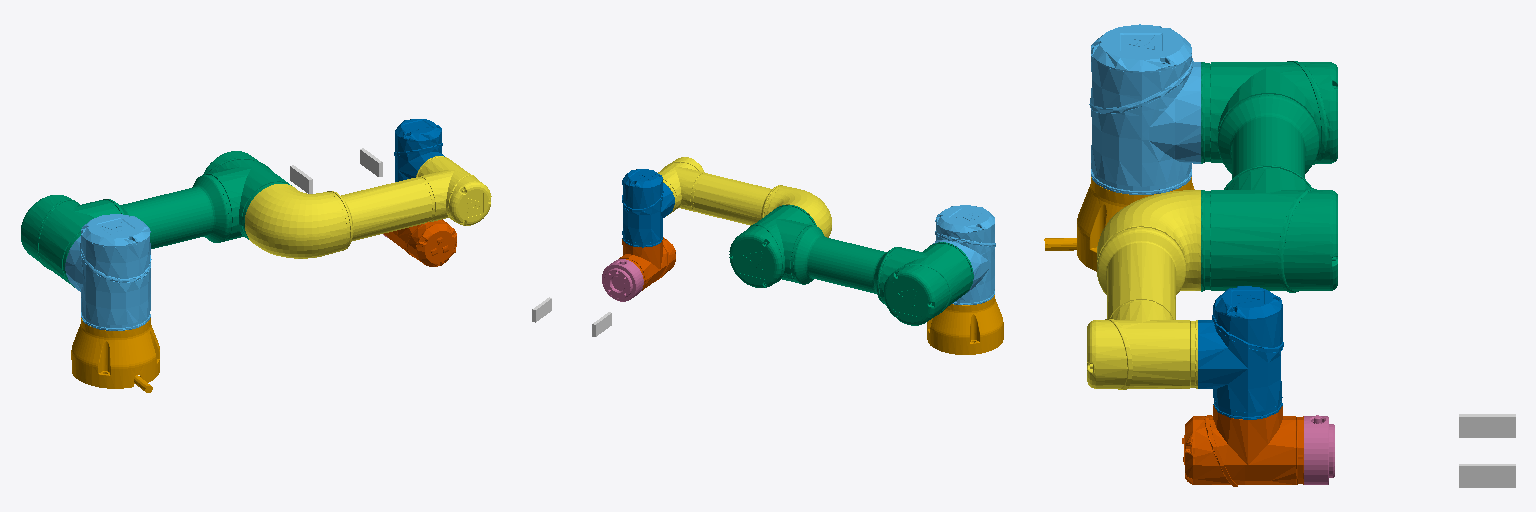
URDF robot description (GBT_C7A):
<?xml version="1.0"?>
<robot name="GBT_C7A" xmlns:xacro="http://www.ros.org/wiki/xacro">

  <!-- Base Link: ARM1 -->
  <link name="ARM1">
  <inertial>
      <origin
        xyz="-5.26704954492915E-06 -0.0098126576895962 0.0491108287185979"
        rpy="0 0 0" />
      <mass
        value="9.16040326523465" />
      <inertia
        ixx="0.0419458054611511"
        ixy="1.03351238796275E-05"
        ixz="-1.16385212137257E-06"
        iyy="0.0160795355795088"
        iyz="-0.00415210835016869"
        izz="0.0465550656362786" />
    </inertial>
    <visual>
      <origin xyz="0 0 0" rpy="0 0 0"/>
      <geometry>
        <mesh filename="package://gbt_gripper_description/meshes/visual/ARM1.obj" scale="0.001 0.001 0.001"/>
      </geometry>
    </visual>
    <collision>
      <origin xyz="0 0 0" rpy="0 0 0"/>
      <geometry>
        <mesh filename="package://gbt_gripper_description/meshes/collision/ARM1.stl" scale="0.001 0.001 0.001"/>
      </geometry>
    </collision>
  </link>

  <!-- ARM2 -->
  <joint name="joint_1_2" type="revolute">
    <parent link="ARM1"/>
    <child link="ARM2"/>
    <origin xyz="0 0 0.178" rpy="0 0 0"/>
    <axis xyz="0 0 1"/>
    <limit effort="100" lower="-6.283185307179" upper="6.283185307179" velocity="6.28"/>
  </joint>
  <link name="ARM2">
    <inertial>
      <origin
        xyz="-2.2231E-07 0.0039863 0.082573"
        rpy="0 0 0" />
      <mass
        value="15.175" />
      <inertia
        ixx="0.047239"
        ixy="-1.1092E-08"
        ixz="6.1658E-07"
        iyy="0.045942"
        iyz="-0.00010066"
        izz="0.029088" />
    </inertial>
    <visual>
      <origin xyz="0 0 0" rpy="0 0 0"/>
      <geometry>
        <mesh filename="package://gbt_gripper_description/meshes/visual/ARM2.obj" scale="0.001 0.001 0.001"/>
      </geometry>
    </visual>
    <collision>
      <origin xyz="0 0 0" rpy="0 0 0"/>
      <geometry>
        <mesh filename="package://gbt_gripper_description/meshes/collision/ARM2.stl" scale="0.001 0.001 0.001"/>
      </geometry>
    </collision>
  </link>

  <!-- ARM3 -->
  <joint name="joint_2_3" type="revolute">
    <parent link="ARM2"/>
    <child link="ARM3"/>
    <origin xyz="0 0.147 0" rpy="1.5707963267948966 0 0"/>
    <axis xyz="0 0 1"/>
    <limit effort="100" lower="-1.483529864195" upper="4.625122517784" velocity="6.28"/>
  </joint>
  <link name="ARM3">
    <inertial>
      <origin
        xyz="0.175 -2.4749E-07 0.082978"
        rpy="0 0 0" />
      <mass
        value="42.406" />
      <inertia
        ixx="0.10612"
        ixy="2.7254E-06"
        ixz="1.9039E-06"
        iyy="1.0509"
        iyz="8.5915E-07"
        izz="1.0146" />
    </inertial>
    <visual>
      <origin xyz="0 0 0" rpy="0 0 0"/>
      <geometry>
        <mesh filename="package://gbt_gripper_description/meshes/visual/ARM3.obj" scale="0.001 0.001 0.001"/>
      </geometry>
    </visual>
    <collision>
      <origin xyz="0 0 0" rpy="0 0 0"/>
      <geometry>
        <mesh filename="package://gbt_gripper_description/meshes/collision/ARM3.stl" scale="0.001 0.001 0.001"/>
      </geometry>
    </collision>
  </link>

  <!-- ARM4 -->
  <joint name="joint_3_4" type="revolute">
    <parent link="ARM3"/>
    <child link="ARM4"/>
    <origin xyz="0.350 0 0.147" rpy="0 0 0"/>
    <axis xyz="0 0 1"/>
    <limit effort="100" lower="-2.879793265790" upper="2.879793265790" velocity="6.28"/>
  </joint>
  <link name="ARM4">
    <inertial>
      <origin
        xyz="-0.14241 6.1389E-07 0.056555"
        rpy="0 0 0" />
      <mass
        value="22.494" />
      <inertia
        ixx="0.03219"
        ixy="-6.2382E-08"
        ixz="0.014535"
        iyy="0.36351"
        iyz="6.3874E-08"
        izz="0.35645" />
    </inertial>
    <visual>
      <origin xyz="0 0 0" rpy="0 0 0"/>
      <geometry>
        <mesh filename="package://gbt_gripper_description/meshes/visual/ARM4.obj" scale="0.001 0.001 0.001"/>
      </geometry>
    </visual>
    <collision>
      <origin xyz="0 0 0" rpy="0 0 0"/>
      <geometry>
        <mesh filename="package://gbt_gripper_description/meshes/collision/ARM4.stl" scale="0.001 0.001 0.001"/>
      </geometry>
    </collision>
  </link>

  <!-- ARM5 -->
  <joint name="joint_4_5" type="revolute">
    <parent link="ARM4"/>
    <child link="ARM5"/>
    <origin xyz="0.3117 0 -0.1233" rpy="0 0 0"/>
    <axis xyz="0 0 1"/>
    <limit effort="100" lower="-1.483529864195" upper="4.625122517784" velocity="6.28"/>
  </joint>
  <link name="ARM5">
    <inertial>
      <origin
        xyz="1.2977E-07 0.0036933 0.046819"
        rpy="0 0 0" />
      <mass
        value="5.9624" />
      <inertia
        ixx="0.01117"
        ixy="8.492E-08"
        ixz="1.0592E-08"
        iyy="0.0057359"
        iyz="-0.00011927"
        izz="0.010395" />
    </inertial>
    <visual>
      <origin xyz="0 0 0" rpy="0 0 0"/>
      <geometry>
        <mesh filename="package://gbt_gripper_description/meshes/visual/ARM5.obj" scale="0.001 0.001 0.001"/>
      </geometry>
    </visual>
    <collision>
      <origin xyz="0 0 0" rpy="0 0 0"/>
      <geometry>
        <mesh filename="package://gbt_gripper_description/meshes/collision/ARM5.stl" scale="0.001 0.001 0.001"/>
      </geometry>
    </collision>
  </link>

  <!-- ARM6 -->
  <joint name="joint_5_6" type="revolute">
    <parent link="ARM5"/>
    <child link="ARM6"/>
    <origin xyz="0 -0.1233 0" rpy="1.5707963267948966 0 0"/>
    <axis xyz="0 0 1"/>
    <limit effort="100" lower="-6.283185307179" upper="6.283185307179" velocity="6.28"/>
  </joint>
  <link name="ARM6">
    <inertial>
      <origin
        xyz="1.3304E-07 -0.00083634 -0.04715"
        rpy="0 0 0" />
      <mass
        value="6.3691" />
      <inertia
        ixx="0.013244"
        ixy="1.0431E-07"
        ixz="3.2379E-08"
        iyy="0.0060649"
        iyz="-1.9476E-05"
        izz="0.012458" />
    </inertial>
    <visual>
      <origin xyz="0 0 0" rpy="0 0 0"/>
      <geometry>
        <mesh filename="package://gbt_gripper_description/meshes/visual/ARM6.obj" scale="0.001 0.001 0.001"/>
      </geometry>
    </visual>
    <collision>
      <origin xyz="0 0 0" rpy="0 0 0"/>
      <geometry>
        <mesh filename="package://gbt_gripper_description/meshes/collision/ARM6.stl" scale="0.001 0.001 0.001"/>
      </geometry>
    </collision>
  </link>

  <!-- ARM7 -->
  <joint name="joint_6_7" type="revolute">
    <parent link="ARM6"/>
    <child link="ARM7"/>
    <origin xyz="0 -0.1003 0" rpy="1.5707963267948966 0 0"/>
    <axis xyz="0 0 1"/>
    <limit effort="100" lower="-6.283185307179" upper="6.283185307179" velocity="6.28"/>
  </joint>
  <link name="ARM7">
    <inertial>
      <origin
        xyz="3.8813E-08 0.00017432 0.012497"
        rpy="0 0 0" />
      <mass
        value="1.0139" />
      <inertia
        ixx="0.00046196"
        ixy="1.8319E-11"
        ixz="-3.9805E-12"
        iyy="0.00046763"
        iyz="-6.4994E-08"
        izz="0.00080288" />
    </inertial>
    <visual>
      <origin xyz="0 0 0" rpy="0 0 0"/>
      <geometry>
        <mesh filename="package://gbt_gripper_description/meshes/visual/ARM7.obj" scale="0.001 0.001 0.001"/>
      </geometry>
    </visual>
    <collision>
      <origin xyz="0 0 0" rpy="0 0 0"/>
      <geometry>
        <mesh filename="package://gbt_gripper_description/meshes/collision/ARM7.stl" scale="0.001 0.001 0.001"/>
      </geometry>
    </collision>
  </link>

  <!-- gripper -->
  <link name="robotiq_arg2f_base_link">
    <inertial>
      <origin rpy="0 0 0" xyz="8.625E-08 -4.6583E-06 0.03145"/>
      <mass value="0.22652"/>
      <inertia ixx="0.00020005" ixy="-4.2442E-10" ixz="-2.9069E-10" iyy="0.00017832" iyz="-3.4402E-08" izz="0.00013478"/>
    </inertial>
    <visual>
      <origin rpy="0 0 0" xyz="0 0 0"/>
      <geometry>
        <mesh filename="package://gbt_gripper_description/meshes/visual/robotiq_arg2f_base_link.stl"/>
      </geometry>
      <material name="">
        <color rgba="0.1 0.1 0.1 1"/>
      </material>
    </visual>
    <collision>
      <origin rpy="0 0 0" xyz="0 0 0"/>
      <geometry>
        <mesh filename="package://gbt_gripper_description/meshes/collision/robotiq_arg2f_base_link.stl"/>
      </geometry>
    </collision>
  </link>
  <link name="left_outer_knuckle">
    <inertial>
      <origin rpy="0 0 0" xyz="-0.000200000000003065 0.0199435877845359 0.0292245259211331"/>
      <mass value="0.00853198276973456"/>
      <inertia ixx="2.89328108496468E-06" ixy="-1.57935047237397E-19" ixz="-1.93980378593255E-19" iyy="1.86719750325683E-06" iyz="-1.21858577871576E-06" izz="1.21905238907251E-06"/>
    </inertial>
    <visual>
      <origin rpy="0 0 0" xyz="0 0 0"/>
      <geometry>
        <mesh filename="package://gbt_gripper_description/meshes/visual/robotiq_arg2f_140_outer_knuckle.stl"/>
      </geometry>
      <material name="">
        <color rgba="0.792156862745098 0.819607843137255 0.933333333333333 1"/>
      </material>
    </visual>
    <collision>
      <origin rpy="0 0 0" xyz="0 0 0"/>
      <geometry>
        <mesh filename="package://gbt_gripper_description/meshes/collision/robotiq_arg2f_140_outer_knuckle.stl"/>
      </geometry>
    </collision>
  </link>
  <link name="left_outer_finger">
    <inertial>
      <origin rpy="0 0 0" xyz="0.00030115855001899 0.0373907951953854 -0.0208027427000385"/>
      <mass value="0.022614240507152"/>
      <inertia ixx="1.52518312458174E-05" ixy="9.76583423954399E-10" ixz="-5.43838577022588E-10" iyy="6.17694243867776E-06" iyz="6.78636130740228E-06" izz="1.16494917907219E-05"/>
    </inertial>
    <visual>
      <origin rpy="0 0 0" xyz="0 0 0"/>
      <geometry>
        <mesh filename="package://gbt_gripper_description/meshes/visual/robotiq_arg2f_140_outer_finger.stl"/>
      </geometry>
      <material name="">
        <color rgba="0.1 0.1 0.1 1"/>
      </material>
    </visual>
    <collision>
      <origin rpy="0 0 0" xyz="0 0 0"/>
      <geometry>
        <mesh filename="package://gbt_gripper_description/meshes/collision/robotiq_arg2f_140_outer_finger.stl"/>
      </geometry>
    </collision>
  </link>
  <link name="left_inner_finger">
    <inertial>
      <origin rpy="0 0 0" xyz="0.000299999999999317 0.0160078233491243 -0.0136945669206257"/>
      <mass value="0.0104003125914103"/>
      <inertia ixx="2.71909453810972E-06" ixy="1.35402465472579E-21" ixz="-7.1817349065269E-22" iyy="7.69100314106116E-07" iyz="6.74715432769696E-07" izz="2.30315190420171E-06"/>
    </inertial>
    <visual>
      <origin rpy="0 0 0" xyz="0 0 0"/>
      <geometry>
        <mesh filename="package://gbt_gripper_description/meshes/visual/robotiq_arg2f_140_inner_finger.stl"/>
      </geometry>
      <material name="">
        <color rgba="0.1 0.1 0.1 1"/>
      </material>
    </visual>
    <collision>
      <origin rpy="0 0 0" xyz="0 0 0"/>
      <geometry>
        <mesh filename="package://gbt_gripper_description/meshes/collision/robotiq_arg2f_140_inner_finger.stl"/>
      </geometry>
    </collision>
  </link>
  <link name="left_inner_finger_pad">
    <visual>
      <origin rpy="0 0 0" xyz="0 0 0"/>
      <geometry>
        <box size="0.027 0.065 0.0075"/>
      </geometry>
      <material name="">
        <color rgba="0.9 0.9 0.9 1"/>
      </material>
    </visual>
    <collision>
      <origin rpy="0 0 0" xyz="0 0 0"/>
      <geometry>
        <box size="0.03 0.07 0.0075"/>
      </geometry>
      <material name="">
        <color rgba="0.9 0.0 0.0 1"/>
      </material>
    </collision>
  </link>
  <link name="left_inner_knuckle">
    <inertial>
      <origin rpy="0 0 0" xyz="0.000123011831763771 0.0507850843201817 0.00103968640075166"/>
      <mass value="0.0271177346495152"/>
      <inertia ixx="2.61910379223783E-05" ixy="-2.43616858946494E-07" ixz="-6.37789906117123E-09" iyy="2.8270243746167E-06" iyz="-5.37200748039765E-07" izz="2.83695868220296E-05"/>
    </inertial>
    <visual>
      <origin rpy="0 0 0" xyz="0 0 0"/>
      <geometry>
        <mesh filename="package://gbt_gripper_description/meshes/visual/robotiq_arg2f_140_inner_knuckle.stl"/>
      </geometry>
      <material name="">
        <color rgba="0.1 0.1 0.1 1"/>
      </material>
    </visual>
    <collision>
      <origin rpy="0 0 0" xyz="0 0 0"/>
      <geometry>
        <mesh filename="package://gbt_gripper_description/meshes/collision/robotiq_arg2f_140_inner_knuckle.stl"/>
      </geometry>
    </collision>
  </link>
  <link name="right_outer_knuckle">
    <inertial>
      <origin rpy="0 0 0" xyz="-0.000200000000003065 0.0199435877845359 0.0292245259211331"/>
      <mass value="0.00853198276973456"/>
      <inertia ixx="2.89328108496468E-06" ixy="-1.57935047237397E-19" ixz="-1.93980378593255E-19" iyy="1.86719750325683E-06" iyz="-1.21858577871576E-06" izz="1.21905238907251E-06"/>
    </inertial>
    <visual>
      <origin rpy="0 0 0" xyz="0 0 0"/>
      <geometry>
        <mesh filename="package://gbt_gripper_description/meshes/visual/robotiq_arg2f_140_outer_knuckle.stl"/>
      </geometry>
      <material name="">
        <color rgba="0.792156862745098 0.819607843137255 0.933333333333333 1"/>
      </material>
    </visual>
    <collision>
      <origin rpy="0 0 0" xyz="0 0 0"/>
      <geometry>
        <mesh filename="package://gbt_gripper_description/meshes/collision/robotiq_arg2f_140_outer_knuckle.stl"/>
      </geometry>
    </collision>
  </link>
  <link name="right_outer_finger">
    <inertial>
      <origin rpy="0 0 0" xyz="0.00030115855001899 0.0373907951953854 -0.0208027427000385"/>
      <mass value="0.022614240507152"/>
      <inertia ixx="1.52518312458174E-05" ixy="9.76583423954399E-10" ixz="-5.43838577022588E-10" iyy="6.17694243867776E-06" iyz="6.78636130740228E-06" izz="1.16494917907219E-05"/>
    </inertial>
    <visual>
      <origin rpy="0 0 0" xyz="0 0 0"/>
      <geometry>
        <mesh filename="package://gbt_gripper_description/meshes/visual/robotiq_arg2f_140_outer_finger.stl"/>
      </geometry>
      <material name="">
        <color rgba="0.1 0.1 0.1 1"/>
      </material>
    </visual>
    <collision>
      <origin rpy="0 0 0" xyz="0 0 0"/>
      <geometry>
        <mesh filename="package://gbt_gripper_description/meshes/collision/robotiq_arg2f_140_outer_finger.stl"/>
      </geometry>
    </collision>
  </link>
  <link name="right_inner_finger">
    <inertial>
      <origin rpy="0 0 0" xyz="0.000299999999999317 0.0160078233491243 -0.0136945669206257"/>
      <mass value="0.0104003125914103"/>
      <inertia ixx="2.71909453810972E-06" ixy="1.35402465472579E-21" ixz="-7.1817349065269E-22" iyy="7.69100314106116E-07" iyz="6.74715432769696E-07" izz="2.30315190420171E-06"/>
    </inertial>
    <visual>
      <origin rpy="0 0 0" xyz="0 0 0"/>
      <geometry>
        <mesh filename="package://gbt_gripper_description/meshes/visual/robotiq_arg2f_140_inner_finger.stl"/>
      </geometry>
      <material name="">
        <color rgba="0.1 0.1 0.1 1"/>
      </material>
    </visual>
    <collision>
      <origin rpy="0 0 0" xyz="0 0 0"/>
      <geometry>
        <mesh filename="package://gbt_gripper_description/meshes/collision/robotiq_arg2f_140_inner_finger.stl"/>
      </geometry>
    </collision>
  </link>
  <link name="right_inner_finger_pad">
    <visual>
      <origin rpy="0 0 0" xyz="0 0 0"/>
      <geometry>
        <box size="0.027 0.065 0.0075"/>
      </geometry>
      <material name="">
        <color rgba="0.9 0.9 0.9 1"/>
      </material>
    </visual>
    <collision>
      <origin rpy="0 0 0" xyz="0 0 0"/>
      <geometry>
        <box size="0.03 0.07 0.0075"/>
      </geometry>
      <material name="">
        <color rgba="0.9 0.0 0.0 1"/>
      </material>
    </collision>
  </link>
  <link name="right_inner_knuckle">
    <inertial>
      <origin rpy="0 0 0" xyz="0.000123011831763771 0.0507850843201817 0.00103968640075166"/>
      <mass value="0.0271177346495152"/>
      <inertia ixx="2.61910379223783E-05" ixy="-2.43616858946494E-07" ixz="-6.37789906117123E-09" iyy="2.8270243746167E-06" iyz="-5.37200748039765E-07" izz="2.83695868220296E-05"/>
    </inertial>
    <visual>
      <origin rpy="0 0 0" xyz="0 0 0"/>
      <geometry>
        <mesh filename="package://gbt_gripper_description/meshes/visual/robotiq_arg2f_140_inner_knuckle.stl"/>
      </geometry>
      <material name="">
        <color rgba="0.1 0.1 0.1 1"/>
      </material>
    </visual>
    <collision>
      <origin rpy="0 0 0" xyz="0 0 0"/>
      <geometry>
        <mesh filename="package://gbt_gripper_description/meshes/collision/robotiq_arg2f_140_inner_knuckle.stl"/>
      </geometry>
    </collision>
  </link>
  <joint name="finger_joint" type="revolute">
    <origin rpy="2.2957963267948966 0 0" xyz="0 -0.030601 0.054905"/>
    <parent link="robotiq_arg2f_base_link"/>
    <child link="left_outer_knuckle"/>
    <axis xyz="-1 0 0"/>
    <limit effort="1000" lower="0" upper="0.7" velocity="2.0"/>
  </joint>
  <joint name="left_outer_finger_joint" type="fixed">
    <origin rpy="0 0 0" xyz="0 0.01821998610742 0.0260018192872234"/>
    <parent link="left_outer_knuckle"/>
    <child link="left_outer_finger"/>
    <axis xyz="1 0 0"/>
  </joint>
  <joint name="left_inner_knuckle_joint" type="revolute">
    <origin rpy="2.2957963267948966 0 0.0" xyz="0 -0.0127 0.06142"/>
    <parent link="robotiq_arg2f_base_link"/>
    <child link="left_inner_knuckle"/>
    <axis xyz="1 0 0"/>
    <limit effort="1000" lower="-0.8757" upper="0.8757" velocity="2.0"/>
    <mimic joint="finger_joint" multiplier="-1" offset="0"/>
  </joint>
  <joint name="left_inner_finger_joint" type="revolute">
    <origin rpy="-0.725 0 0" xyz="0 0.0817554015893473 -0.0282203446692936"/>
    <parent link="left_outer_finger"/>
    <child link="left_inner_finger"/>
    <axis xyz="1 0 0"/>
    <limit effort="1000" lower="-0.8757" upper="0.8757" velocity="2.0"/>
    <mimic joint="finger_joint" multiplier="1" offset="0"/>
  </joint>
  <joint name="left_inner_finger_pad_joint" type="fixed">
    <origin rpy="0 0 0" xyz="0 0.0457554015893473 -0.0272203446692936"/>
    <parent link="left_inner_finger"/>
    <child link="left_inner_finger_pad"/>
    <axis xyz="0 0 1"/>
  </joint>
  <joint name="right_outer_knuckle_joint" type="revolute">
    <origin rpy="2.2957963267948966 0 3.141592653589793" xyz="0 0.030601 0.054905"/>
    <parent link="robotiq_arg2f_base_link"/>
    <child link="right_outer_knuckle"/>
    <axis xyz="1 0 0"/>
    <limit effort="1000" lower="-0.725" upper="0.725" velocity="2.0"/>
    <mimic joint="finger_joint" multiplier="-1" offset="0"/>
  </joint>
  <joint name="right_outer_finger_joint" type="fixed">
    <origin rpy="0 0 0" xyz="0 0.01821998610742 0.0260018192872234"/>
    <parent link="right_outer_knuckle"/>
    <child link="right_outer_finger"/>
    <axis xyz="1 0 0"/>
  </joint>
  <joint name="right_inner_knuckle_joint" type="revolute">
    <origin rpy="2.2957963267948966 0 -3.141592653589793" xyz="0 0.0127 0.06142"/>
    <parent link="robotiq_arg2f_base_link"/>
    <child link="right_inner_knuckle"/>
    <axis xyz="1 0 0"/>
    <limit effort="1000" lower="-0.8757" upper="0.8757" velocity="2.0"/>
    <mimic joint="finger_joint" multiplier="-1" offset="0"/>
  </joint>
  <joint name="right_inner_finger_joint" type="revolute">
    <origin rpy="-0.725 0 0" xyz="0 0.0817554015893473 -0.0282203446692936"/>
    <parent link="right_outer_finger"/>
    <child link="right_inner_finger"/>
    <axis xyz="1 0 0"/>
    <limit effort="1000" lower="-0.8757" upper="0.8757" velocity="2.0"/>
    <mimic joint="finger_joint" multiplier="1" offset="0"/>
  </joint>
  <joint name="right_inner_finger_pad_joint" type="fixed">
    <origin rpy="0 0 0" xyz="0 0.0457554015893473 -0.0272203446692936"/>
    <parent link="right_inner_finger"/>
    <child link="right_inner_finger_pad"/>
    <axis xyz="0 0 1"/>
  </joint>
  <transmission name="finger_joint_trans">
    <type>transmission_interface/SimpleTransmission</type>
    <joint name="finger_joint">
      <hardwareInterface>PositionJointInterface</hardwareInterface>
    </joint>
    <actuator name="finger_joint_motor">
      <mechanicalReduction>1</mechanicalReduction>
    </actuator>
  </transmission>

  <!-- 添加固定连接：把夹爪 base_link 接到机械臂末端 link -->
  <joint name="gripper_to_robot_fixed" type="fixed">
    <parent link="ARM7"/> <!-- 替换为你的机械臂末端 link 名称 -->
    <child  link="robotiq_arg2f_base_link"/> <!-- 替换为你的夹爪 base link 名称 -->
    <origin xyz="0 0 0" rpy="0 0 1.571"/> <!-- 视实际姿态调整位置与方向 -->
  </joint>

</robot>

--- Facts derived from the render (not from the file) ---
3 views of the same robot in one strip: view 1: azimuth 30°, elevation 25°; view 2: azimuth 150°, elevation 25°; view 3: azimuth 270°, elevation 25° (orthographic).
Model GBT_C7A with 18 links and 17 joints (12 revolute, 5 fixed), rooted at ARM1, posed all joints at 0.
Visible links, largest first — view 1: ARM4, ARM3, ARM2, ARM1, ARM5, ARM6; view 2: ARM3, ARM4, ARM2, ARM1, ARM5, ARM6, ARM7; view 3: ARM3, ARM4, ARM2, ARM5, ARM6, ARM1, ARM7, left_inner_finger_pad, right_inner_finger_pad.
Boxes of the visible links, x1=… form: ARM4: x1=245, y1=156, x2=491, y2=258; ARM3: x1=21, y1=151, x2=291, y2=287; ARM2: x1=65, y1=214, x2=151, y2=330; ARM1: x1=71, y1=318, x2=159, y2=392; ARM5: x1=394, y1=119, x2=444, y2=181; ARM6: x1=384, y1=219, x2=456, y2=266; ARM3: x1=729, y1=205, x2=973, y2=325; ARM4: x1=658, y1=157, x2=831, y2=237; ARM2: x1=933, y1=205, x2=995, y2=304; ARM1: x1=927, y1=295, x2=1003, y2=354; ARM5: x1=622, y1=169, x2=674, y2=247; ARM6: x1=619, y1=237, x2=675, y2=290; ARM7: x1=602, y1=259, x2=643, y2=301; ARM3: x1=1201, y1=61, x2=1337, y2=292; ARM4: x1=1087, y1=190, x2=1200, y2=389; ARM2: x1=1089, y1=24, x2=1200, y2=194; ARM5: x1=1198, y1=286, x2=1283, y2=419; ARM6: x1=1182, y1=405, x2=1303, y2=486; ARM1: x1=1044, y1=177, x2=1194, y2=271; ARM7: x1=1304, y1=415, x2=1334, y2=484; left_inner_finger_pad: x1=1459, y1=464, x2=1515, y2=487; right_inner_finger_pad: x1=1459, y1=414, x2=1515, y2=437.
Bounding box of the posed robot: 0.8084 × 0.5455 × 0.2682 m (x, y, z).
Meshes: 12 distinct files referenced, 7 mesh visuals loaded (7 OBJ); not drawn: 9 (reference not matched to a file when rendering).
